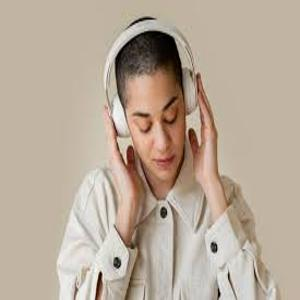Headphones: (103, 19, 198, 138)
